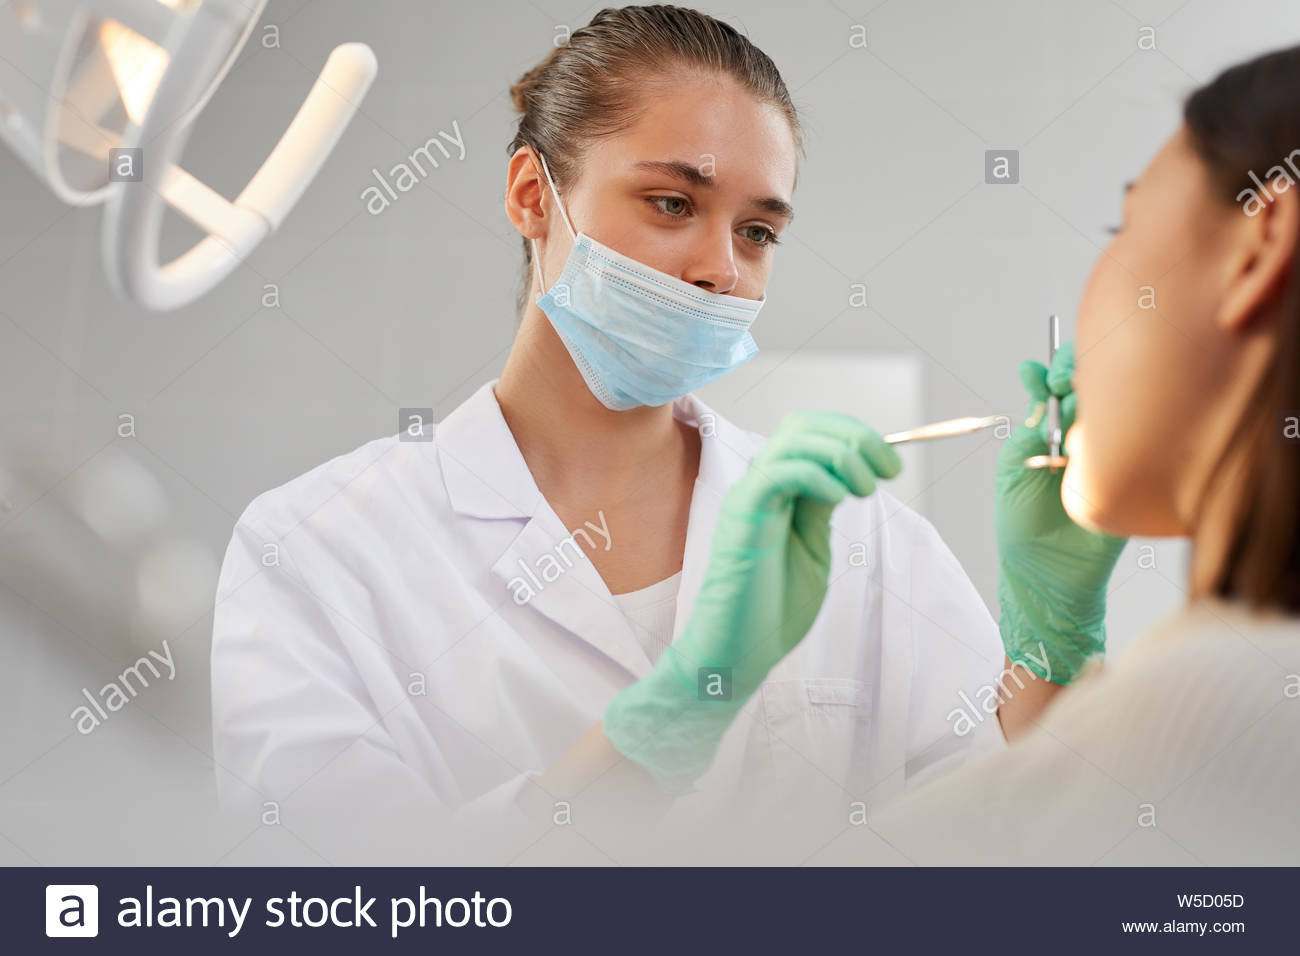mask_weared_incorrect: (505, 78, 802, 422)
